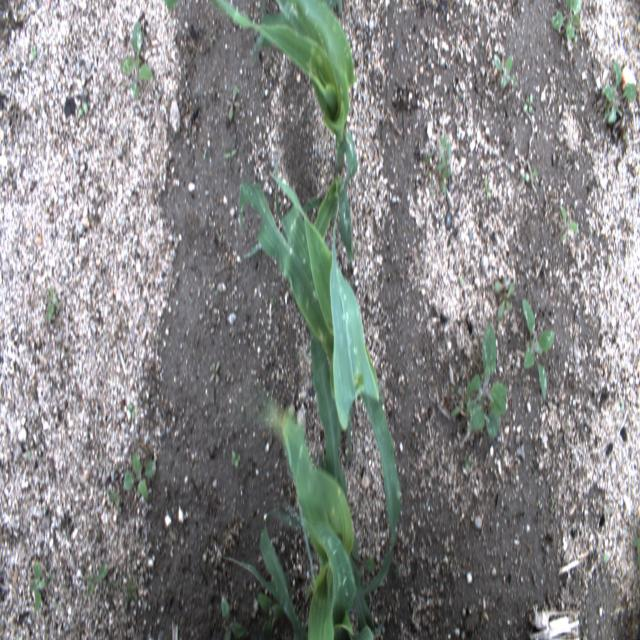crop: (237, 174, 401, 586), (218, 0, 357, 258), (233, 399, 374, 638)
weed: (464, 320, 511, 448), (519, 293, 562, 409), (115, 18, 154, 108), (120, 444, 158, 507), (601, 62, 638, 126), (549, 1, 586, 48), (490, 41, 519, 95), (82, 560, 116, 604), (435, 131, 455, 195), (105, 471, 130, 513), (493, 271, 515, 317), (219, 592, 245, 630), (558, 199, 582, 240), (42, 280, 62, 327), (32, 554, 46, 618), (224, 80, 241, 124), (218, 137, 240, 168), (74, 91, 92, 123), (519, 165, 540, 191), (125, 396, 139, 434), (522, 82, 537, 116), (210, 356, 222, 392), (229, 447, 242, 475), (30, 39, 40, 68)
